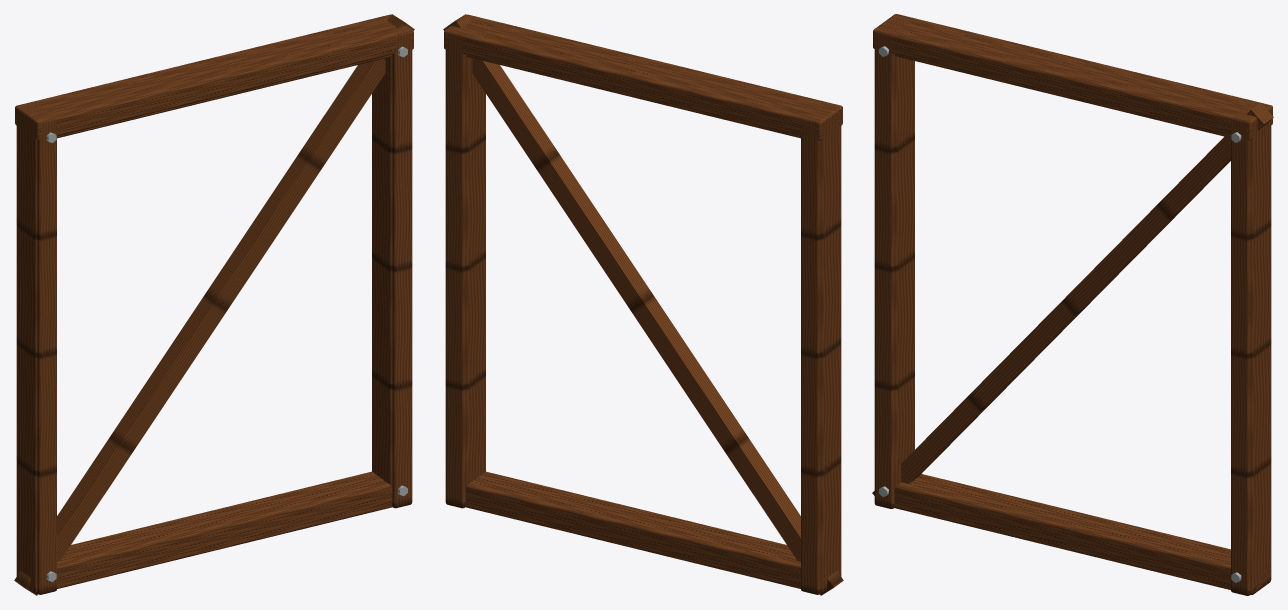
File: modular-survival-base-builder-wall-cross-braced-frame-f09267da__24164.glb
3 views of the same model, side by side, from view 1: azimuth 30°, elevation 25°; view 2: azimuth 150°, elevation 25°; view 3: azimuth 330°, elevation 25° (orthographic).
Visible parts, largest first — view 1: wall-cross-braced-frame; view 2: wall-cross-braced-frame; view 3: wall-cross-braced-frame.
Part boxes in pixels (box(x1,y1,x2,y2)): wall-cross-braced-frame: box(14, 14, 414, 595); wall-cross-braced-frame: box(443, 14, 843, 595); wall-cross-braced-frame: box(872, 14, 1273, 595).
Size of the model in its own units: 2.07 by 2.46 by 0.2336.
Materials: 2 (1 with a texture image).
